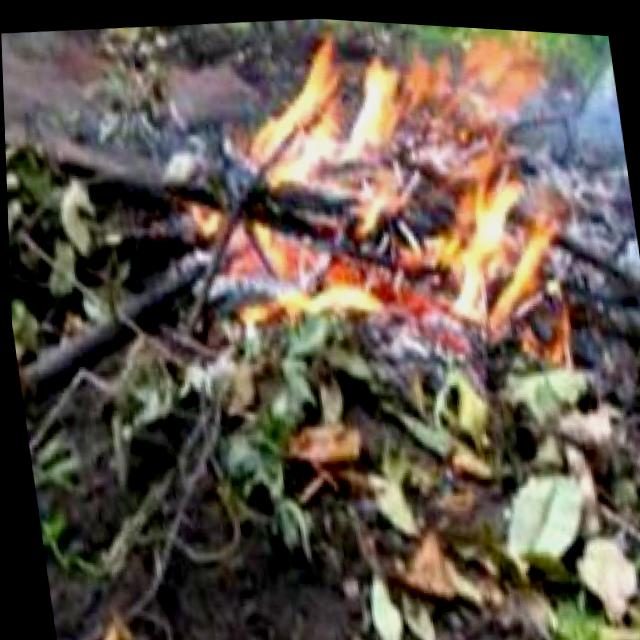helmet: (212, 10, 590, 406)
